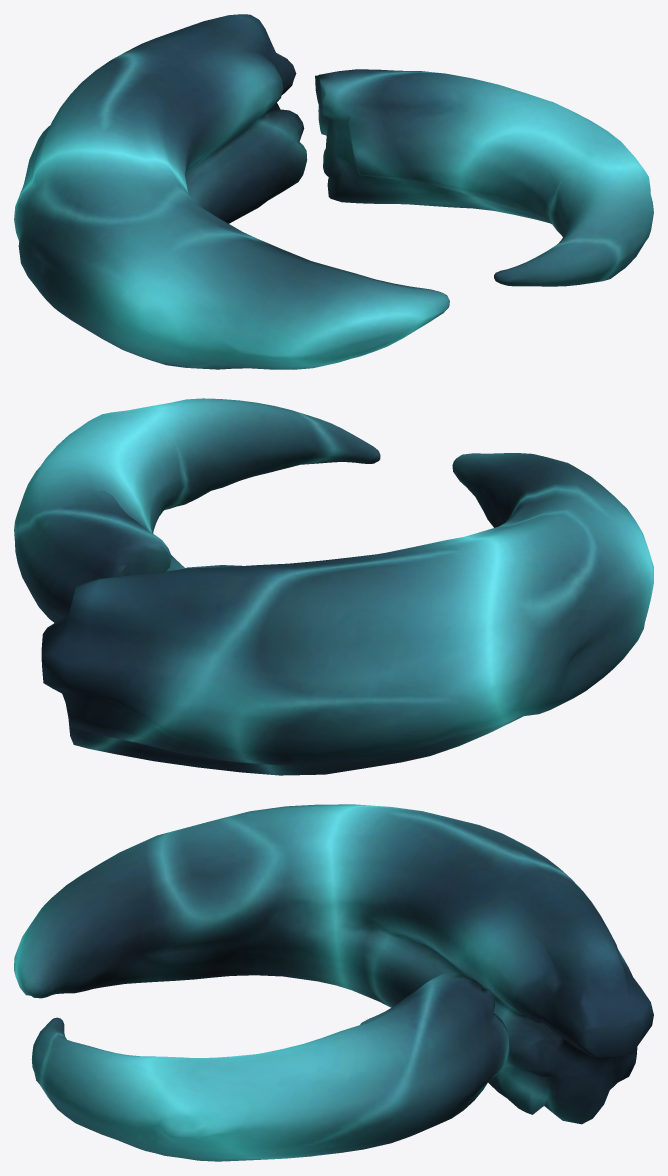
The model's file is caos_drs_clawplantdebris_01a_soma_v36.glb.
3 renders of one model, top to bottom at view 1: azimuth 30°, elevation 25°; view 2: azimuth 150°, elevation 25°; view 3: azimuth 270°, elevation 25°, orthographic. The views are drawn at different scales.
Visible parts, largest first — view 1: caos_drs_clawplantdebris_01a; view 2: caos_drs_clawplantdebris_01a; view 3: caos_drs_clawplantdebris_01a.
Part boxes in pixels (bbox=[...]): caos_drs_clawplantdebris_01a: bbox=[14, 14, 653, 369]; caos_drs_clawplantdebris_01a: bbox=[14, 398, 653, 775]; caos_drs_clawplantdebris_01a: bbox=[14, 804, 653, 1161].
Size of the model in its own units: 1.06 by 0.3513 by 1.05.
1 material, 1 textured.
